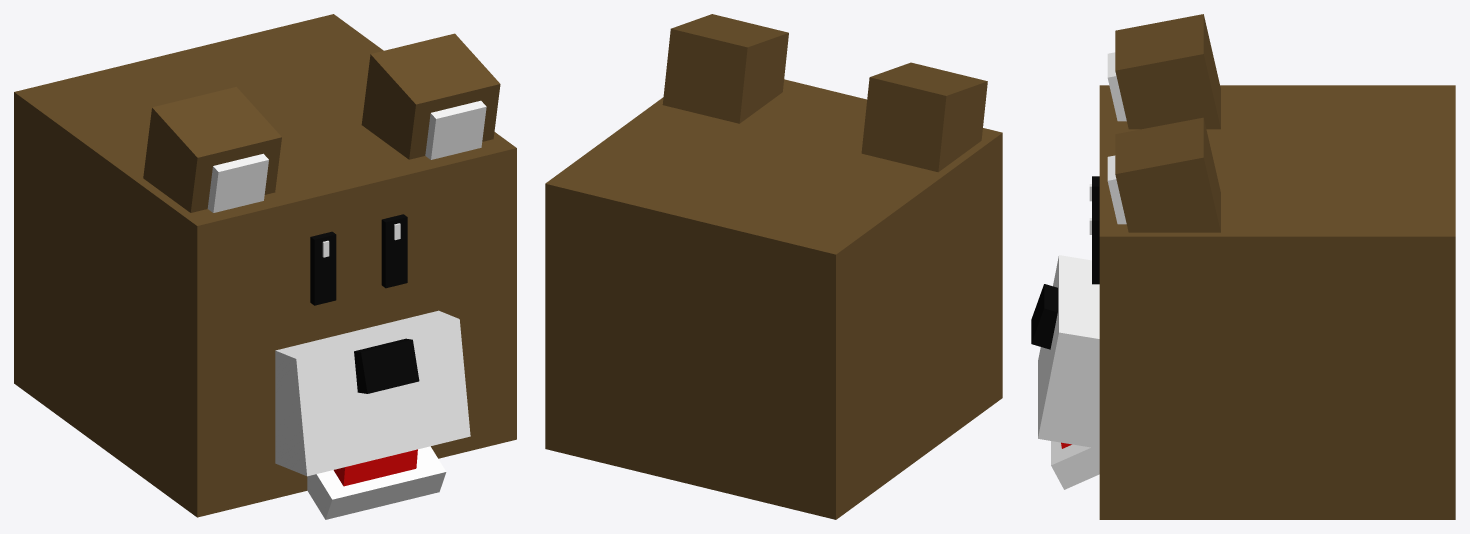
File: bear_head.obj
3 views of the same model, side by side, from view 1: azimuth 30°, elevation 25°; view 2: azimuth 150°, elevation 25°; view 3: azimuth 270°, elevation 25° (orthographic). The views are drawn at different scales.
Visible parts, largest first — view 1: pCube1, pCube1 pCube10, pCube1 pCube8, pCube1 pCube17, pCube1 pCube12, pCube1 pCube10 pCube11, pCube1 pCube8 pCube9, pCube1 pCube17 pCube16, pCube1 pCube14, pCube1 pCube6, pCube1 pCube12 pCube13; view 2: pCube1, pCube1 pCube17, pCube1 pCube8; view 3: pCube1, pCube1 pCube8, pCube1 pCube17, pCube1 pCube10, pCube1 pCube12, pCube1 pCube10 pCube11, pCube1 pCube17 pCube16, pCube1 pCube8 pCube9, pCube1 pCube6.
Boxes of the visible parts, <box> form: pCube1: <box>14,14,516,517</box>; pCube1 pCube10: <box>275,310,470,476</box>; pCube1 pCube8: <box>361,33,500,159</box>; pCube1 pCube17: <box>143,87,281,212</box>; pCube1 pCube12: <box>307,446,446,519</box>; pCube1 pCube10 pCube11: <box>354,338,419,393</box>; pCube1 pCube8 pCube9: <box>425,100,486,159</box>; pCube1 pCube17 pCube16: <box>207,153,268,212</box>; pCube1 pCube14: <box>310,231,336,305</box>; pCube1 pCube6: <box>381,214,407,288</box>; pCube1 pCube12 pCube13: <box>333,449,417,486</box>; pCube1: <box>545,79,1002,519</box>; pCube1 pCube17: <box>861,62,987,172</box>; pCube1 pCube8: <box>662,14,788,123</box>; pCube1: <box>1099,85,1455,519</box>; pCube1 pCube8: <box>1115,117,1220,232</box>; pCube1 pCube17: <box>1115,14,1220,129</box>; pCube1 pCube10: <box>1038,255,1099,448</box>; pCube1 pCube12: <box>1051,441,1099,489</box>; pCube1 pCube10 pCube11: <box>1031,284,1057,349</box>; pCube1 pCube17 pCube16: <box>1107,52,1126,121</box>; pCube1 pCube8 pCube9: <box>1107,155,1126,224</box>; pCube1 pCube6: <box>1092,210,1099,284</box>.
Size of the model in its own units: 6.97 by 8.02 by 8.25.
